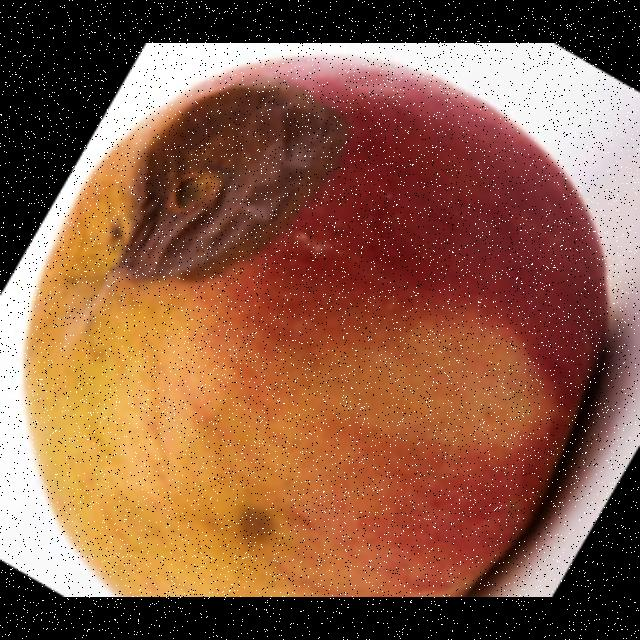Apel Tidak Segar: (22, 73, 600, 597)
